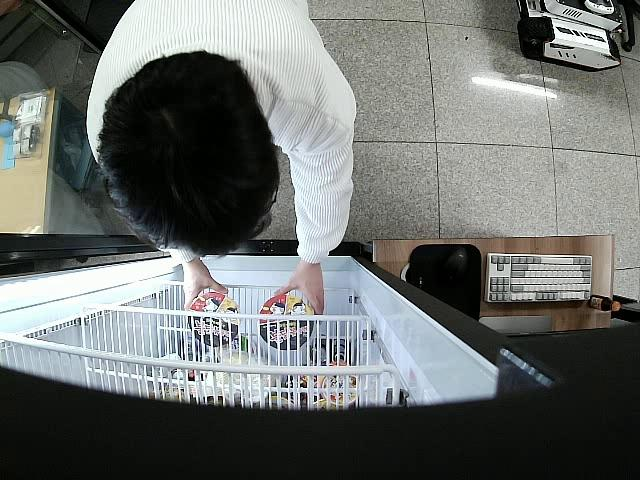00_hand: (274, 264, 324, 313), (181, 264, 229, 309)
07_buldak_L: (186, 289, 239, 346), (258, 296, 315, 349)
